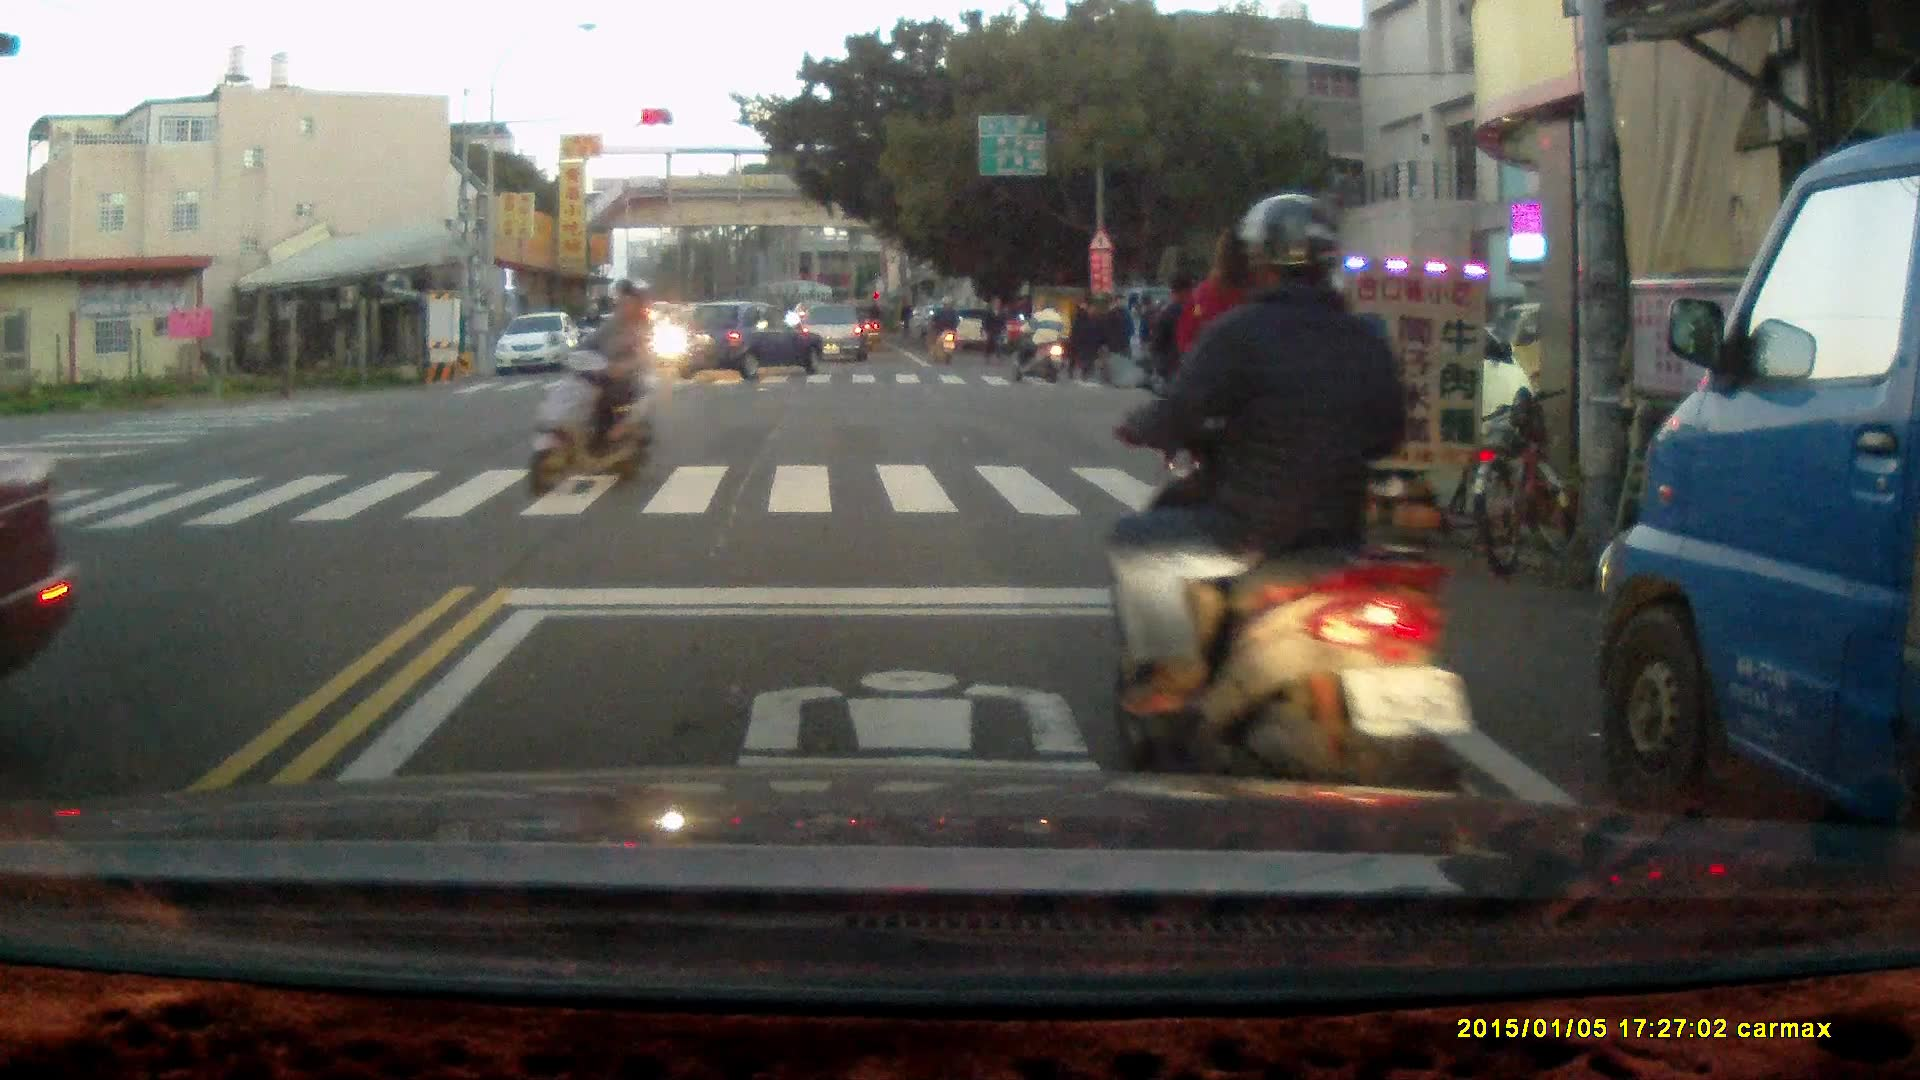pedestrian: (1175, 220, 1291, 567), (1146, 263, 1229, 480), (1102, 290, 1135, 382), (1067, 295, 1092, 375), (980, 292, 1004, 367)
rider: (1095, 194, 1467, 864), (525, 279, 662, 499), (1012, 295, 1068, 382), (927, 293, 959, 366)
vehicle: (1598, 132, 1920, 883), (1233, 296, 1533, 459), (1, 447, 87, 680), (669, 303, 824, 385), (498, 313, 586, 377), (796, 302, 874, 366)
